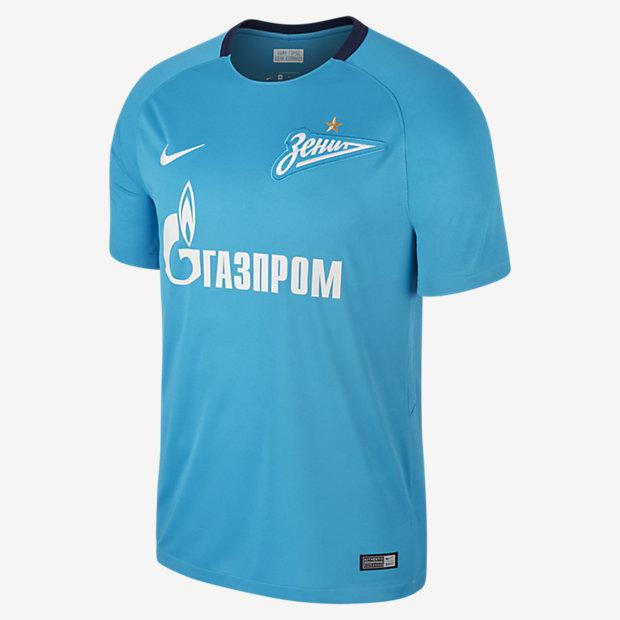teeshirt: (91, 10, 527, 607)
